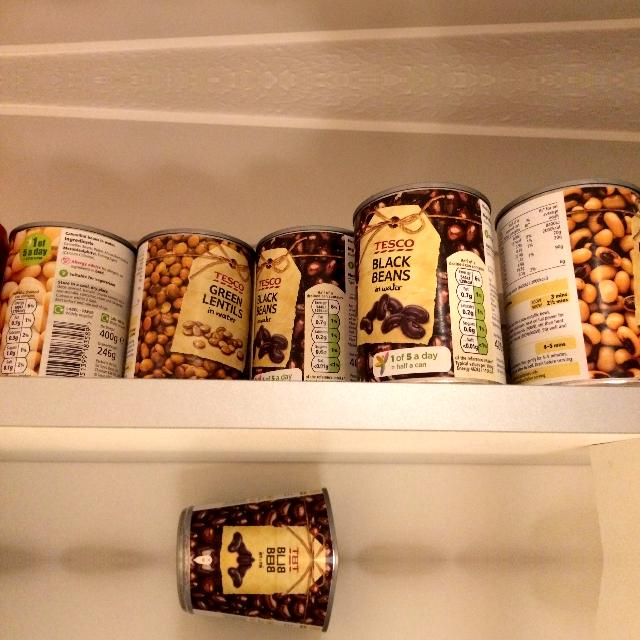Metal: (350, 177, 510, 393), (493, 175, 639, 388), (120, 223, 258, 397), (2, 212, 140, 380), (250, 220, 366, 386), (172, 482, 342, 558), (172, 560, 342, 636)
